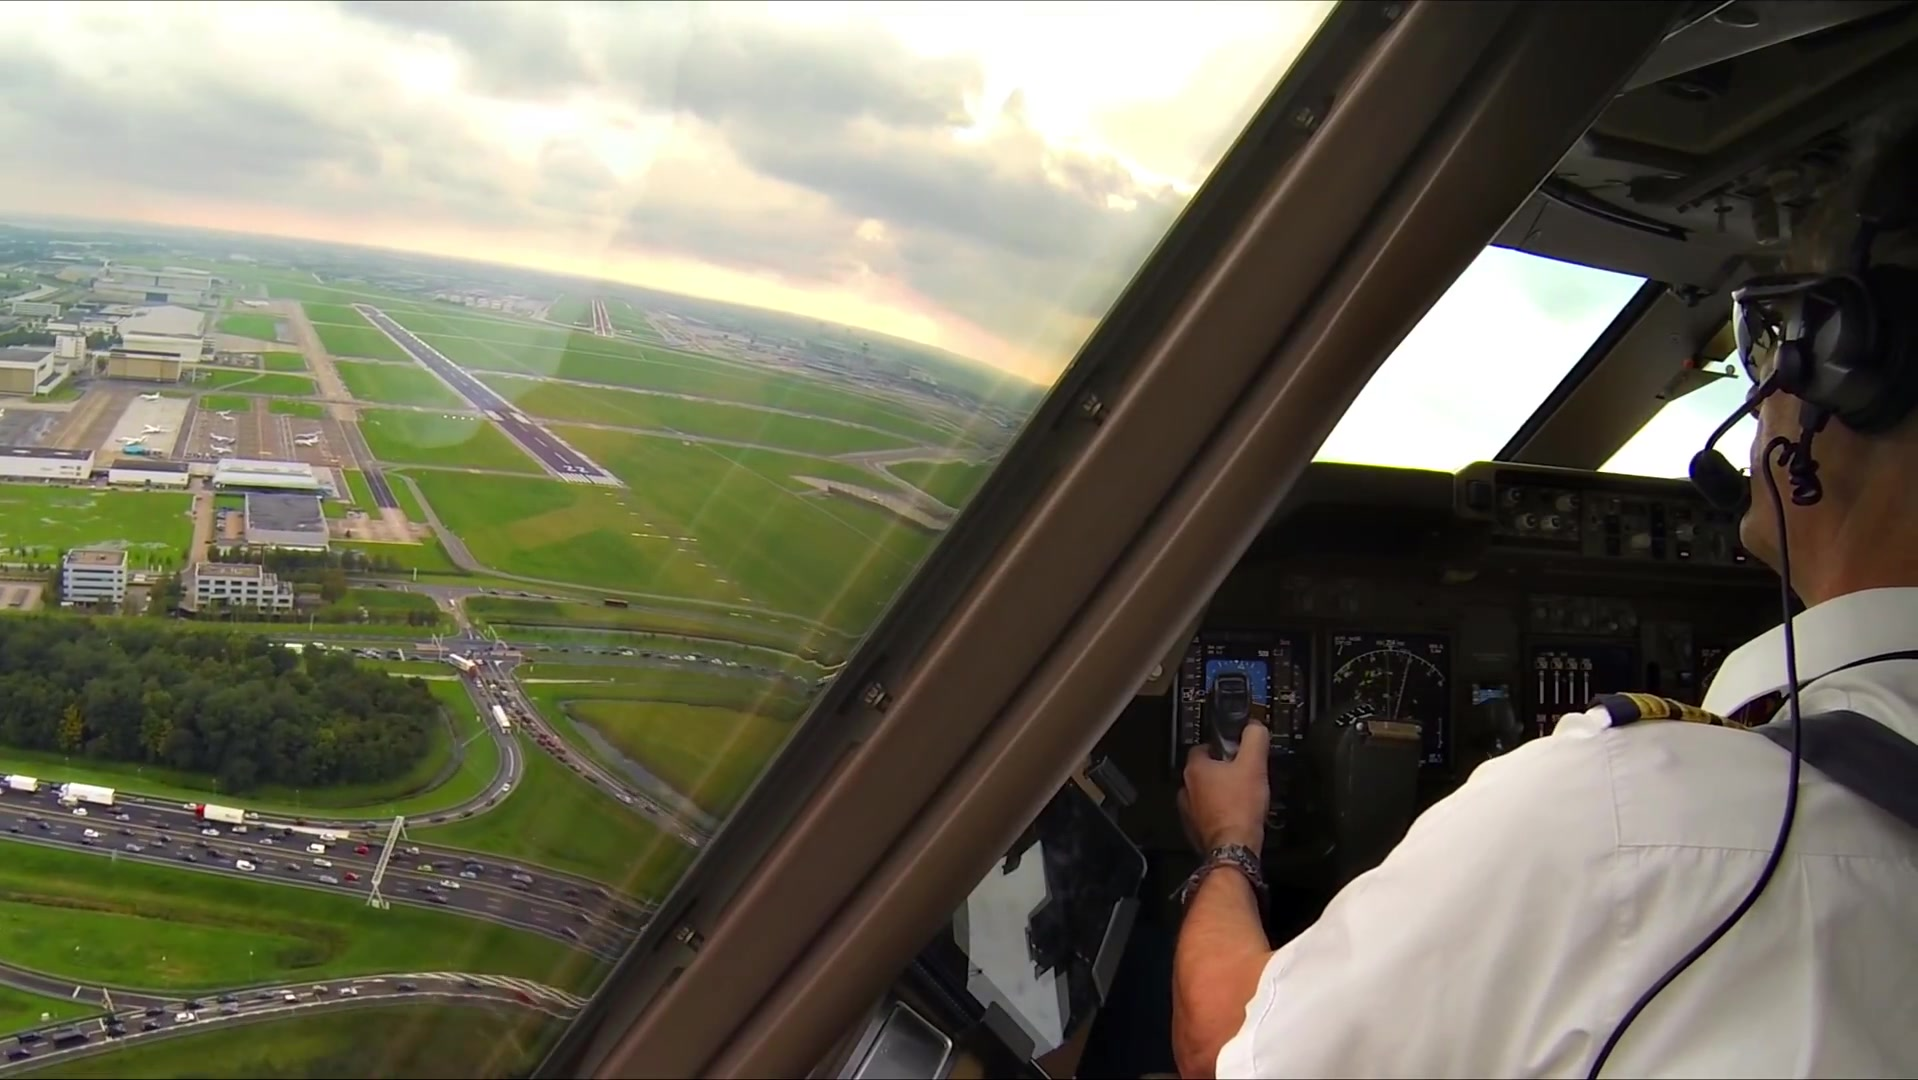entrance: (556, 472, 623, 489)
runway: (342, 298, 630, 489), (584, 298, 618, 345)
